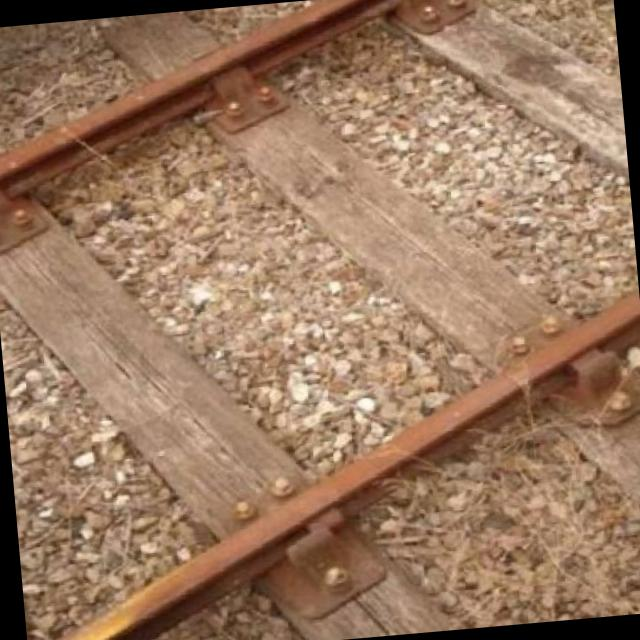defective: (0, 33, 592, 635)
